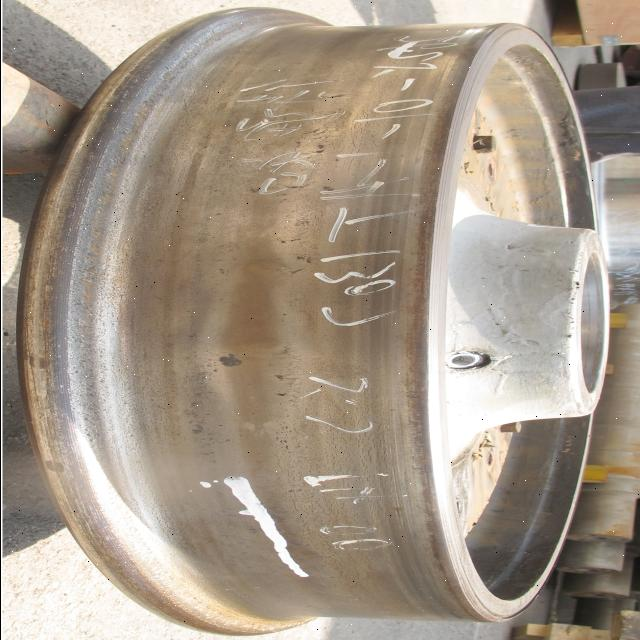fatigue crack: (270, 374, 298, 382), (318, 94, 350, 98), (270, 391, 288, 398)
